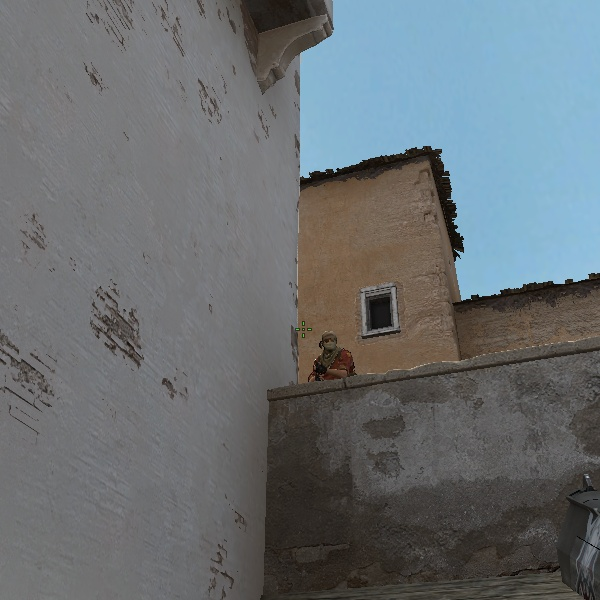t_body: (300, 329, 365, 383)
t_head: (316, 331, 344, 360)
